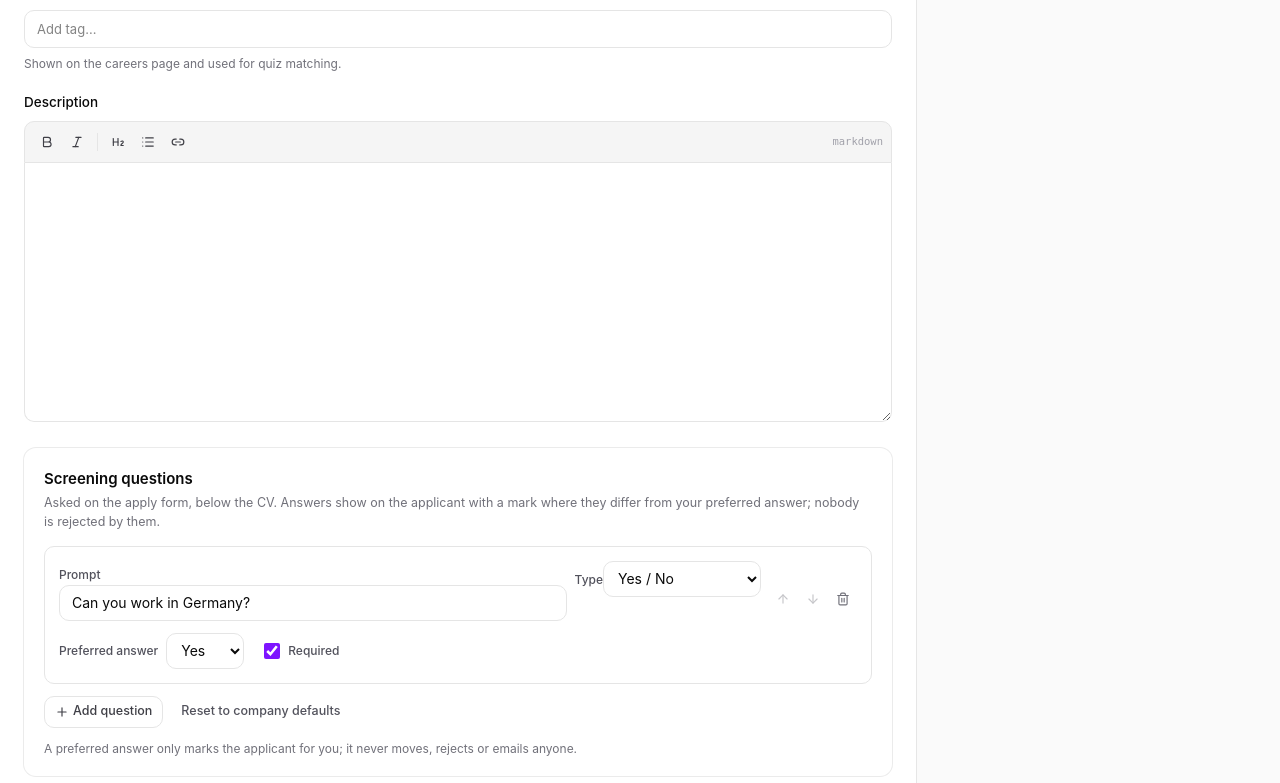
Test case: JobForm screening questions › starts a new job from the company defaults and can reset to them
This screenshot has width=1280, height=783.
(page scrolled)
Expected: the field labelled "Prompt" holds "Can you work in Germany?", top-left (59, 584), bottom-right (566, 620)
Step 1. Click the button named "Remove question 1" → (843, 598), box top-left (829, 584), bottom-right (857, 612)
(page scrolled)
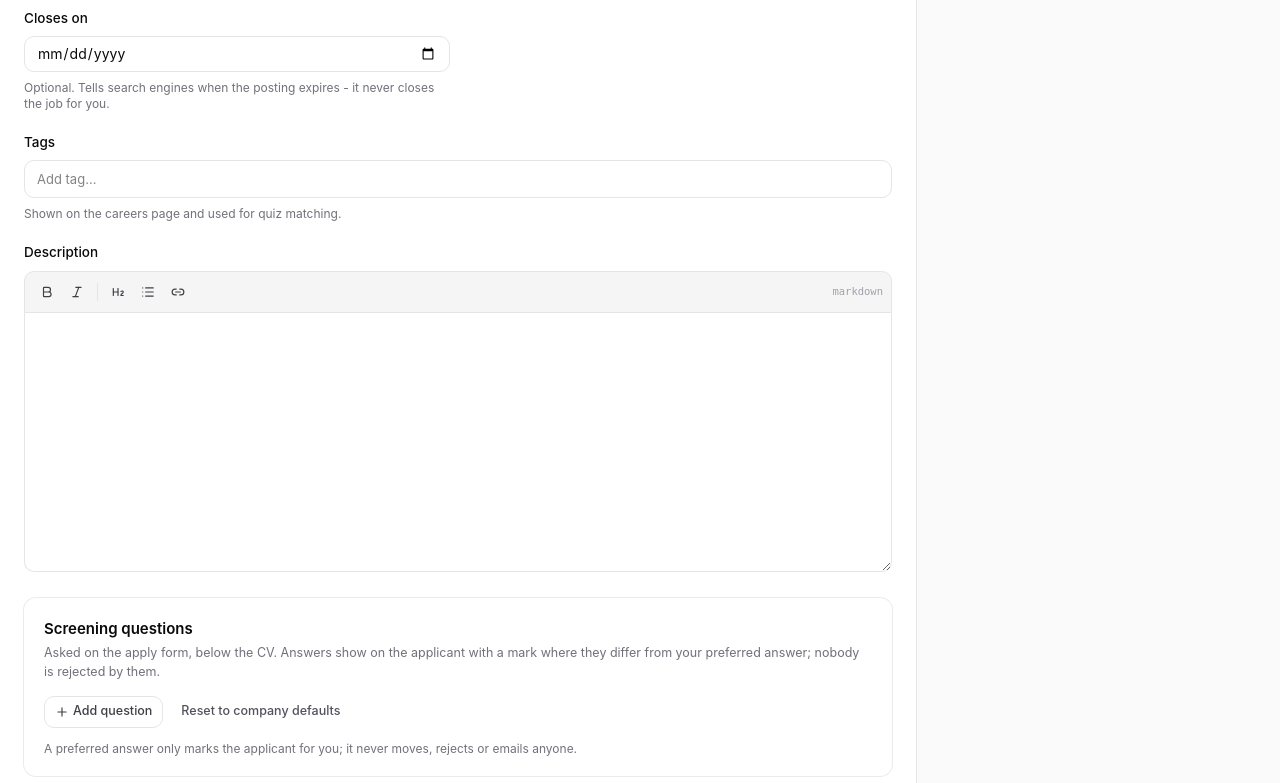
Now the text labelled "Prompt" is gone
Step 2. Click the button "Reset to company defaults" → (261, 712), box top-left (171, 696), bottom-right (350, 728)
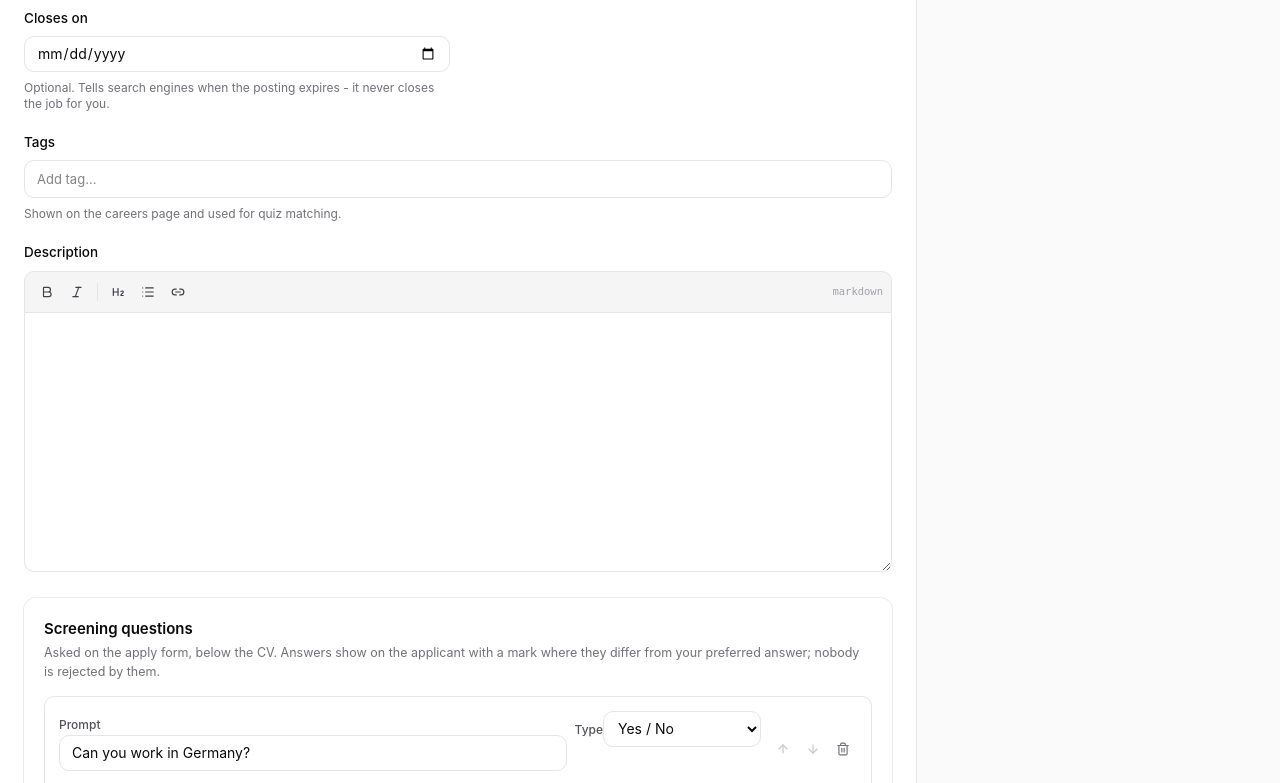
Now the field labelled "Prompt" holds "Can you work in Germany?", box top-left (59, 734), bottom-right (566, 770)
